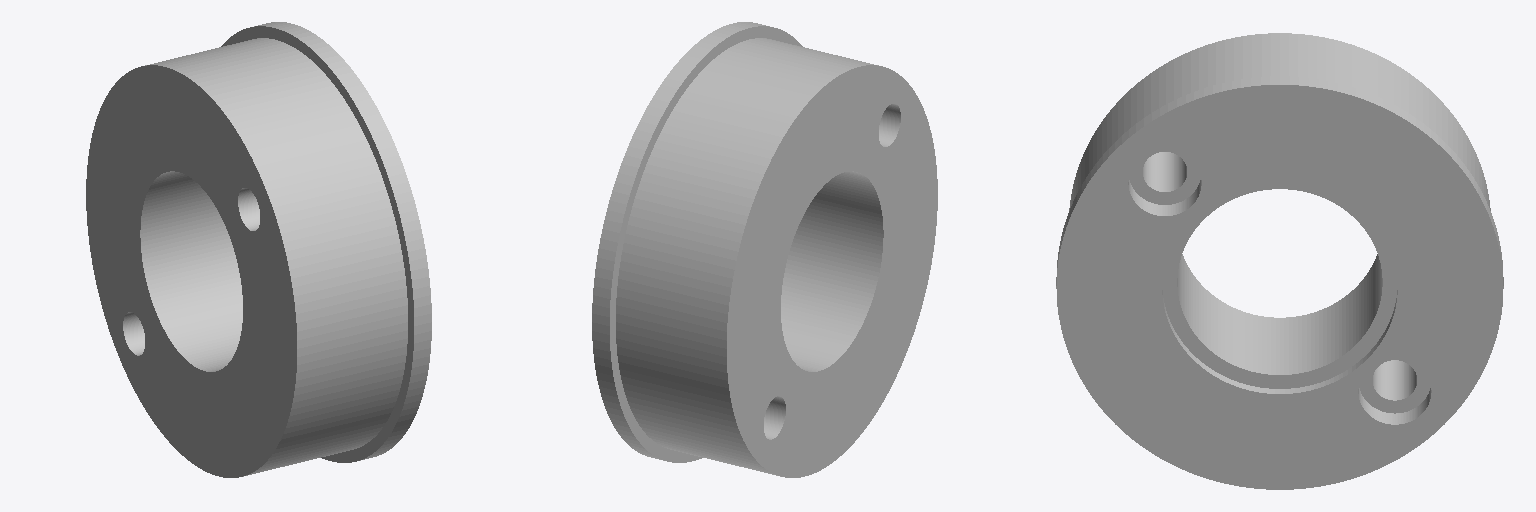
The model's file is Finger Unified Assembly - Finger Joint 2 Pulley.obj.
3 renders of one model, left to right at view 1: azimuth 30°, elevation 25°; view 2: azimuth 150°, elevation 25°; view 3: azimuth 270°, elevation 25°, orthographic.
Parts seen in each view (by area): view 1: mesh6, mesh10, mesh0, mesh4, mesh5, mesh9, mesh11; view 2: mesh6, mesh10, mesh0, mesh4, mesh5, mesh9, mesh11; view 3: mesh3, mesh6, mesh0, mesh1, mesh4, mesh13, mesh8, mesh9, mesh11, mesh2, mesh7, mesh12.
Boxes of the visible parts, box(x1,y1,x2,y2) form: mesh6: box(145, 38, 407, 476); mesh10: box(86, 65, 296, 477); mesh0: box(140, 171, 242, 371); mesh4: box(254, 22, 431, 460); mesh5: box(221, 26, 413, 462); mesh9: box(123, 312, 144, 355); mesh11: box(238, 188, 259, 230); mesh6: box(616, 38, 878, 476); mesh10: box(727, 65, 937, 477); mesh0: box(781, 171, 883, 371); mesh4: box(592, 22, 769, 460); mesh5: box(610, 26, 802, 462); mesh9: box(764, 396, 785, 439); mesh11: box(879, 104, 900, 146); mesh3: box(1056, 85, 1503, 489); mesh6: box(1069, 33, 1490, 210); mesh0: box(1177, 254, 1382, 374); mesh1: box(1162, 181, 1397, 388); mesh4: box(1056, 76, 1503, 285); mesh13: box(1129, 150, 1200, 204); mesh8: box(1359, 358, 1430, 413); mesh9: box(1373, 360, 1416, 400); mesh11: box(1143, 152, 1186, 191); mesh2: box(1162, 290, 1397, 393); mesh7: box(1358, 388, 1431, 424); mesh12: box(1128, 180, 1201, 215).
Bounding box in the file's own units: 0.0073 × 0.022 × 0.022.